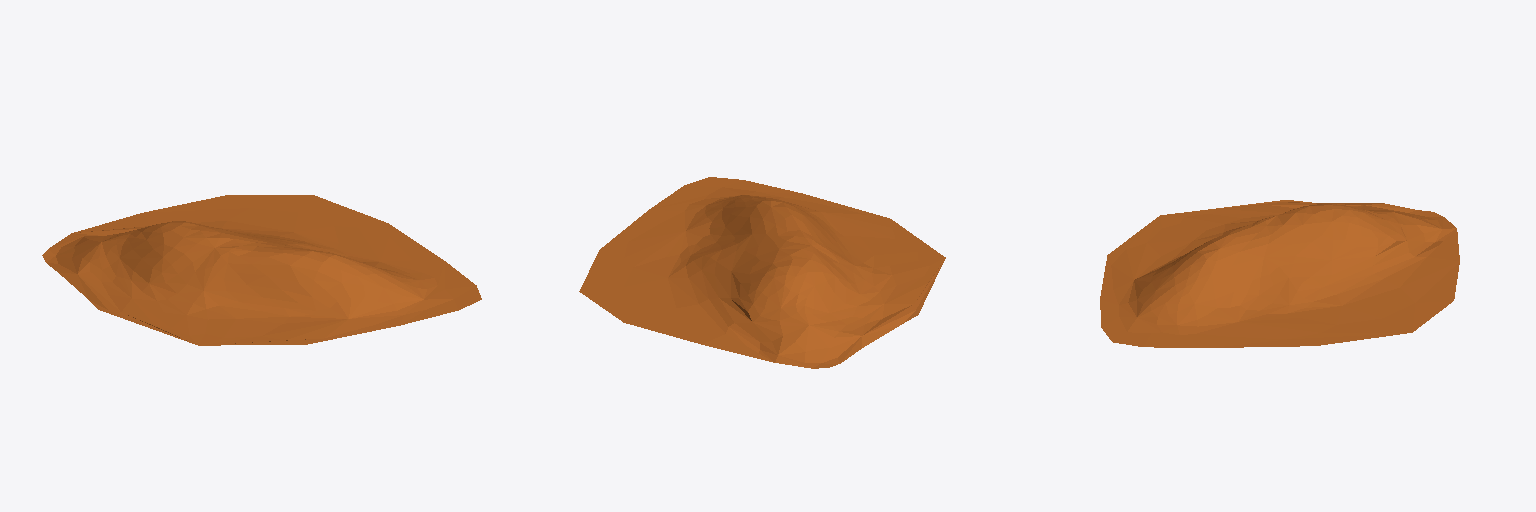
File: Ground07.obj
3 views of the same model, side by side, from view 1: azimuth 30°, elevation 25°; view 2: azimuth 150°, elevation 25°; view 3: azimuth 270°, elevation 25° (orthographic).
Parts seen in each view (by area): view 1: Plane_Plane.003; view 2: Plane_Plane.003; view 3: Plane_Plane.003.
Part boxes in pixels (x1,y1,x2,y2): Plane_Plane.003: (42, 195, 481, 345); Plane_Plane.003: (579, 177, 945, 368); Plane_Plane.003: (1100, 200, 1459, 347).
Bounding box in the file's own units: 49.38 × 7.03 × 50.